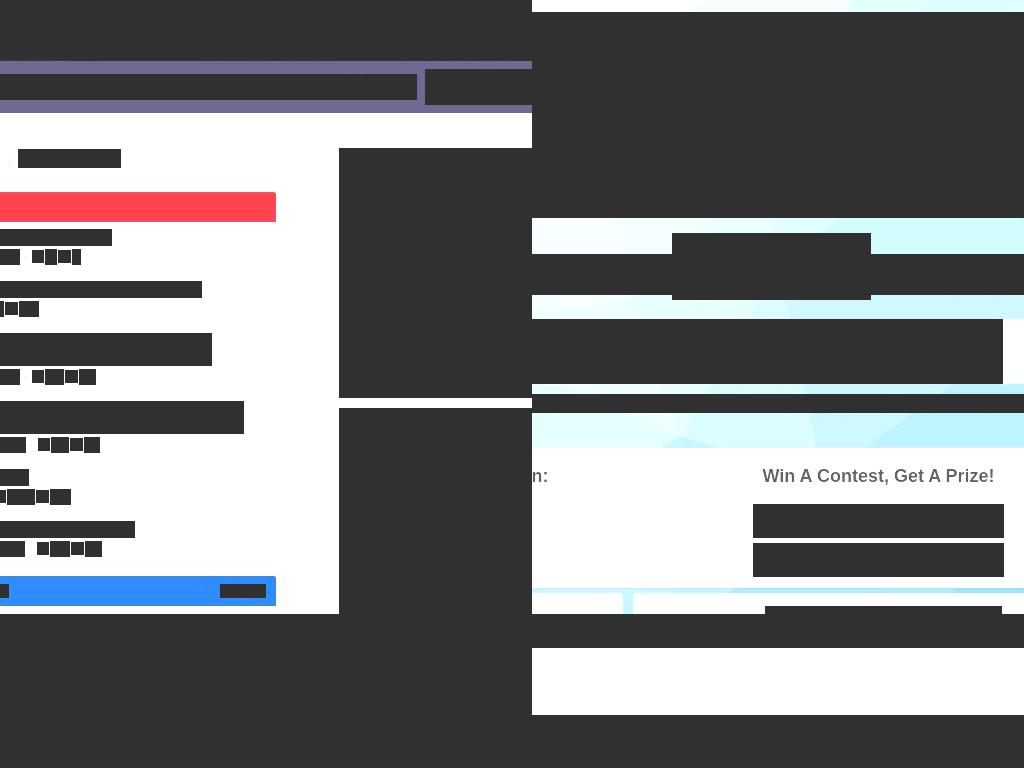button: (753, 504, 1004, 538), (753, 543, 1004, 577), (325, 74, 417, 100), (129, 74, 220, 100), (0, 74, 65, 100), (65, 74, 129, 100), (271, 74, 325, 100), (220, 74, 271, 100), (429, 72, 454, 105), (220, 584, 266, 598)
field: (532, 319, 1003, 384), (425, 69, 532, 105)
heading: (0, 703, 532, 731), (672, 233, 871, 300), (532, 394, 1024, 413), (0, 401, 244, 434), (0, 333, 212, 366), (871, 254, 1024, 295), (532, 254, 674, 295), (0, 281, 202, 298), (0, 521, 135, 538), (0, 229, 112, 246)
iframe: (339, 148, 532, 398), (339, 408, 532, 614), (0, 0, 532, 59), (532, 715, 1024, 768)
image: (0, 614, 532, 768), (58, 250, 71, 263), (5, 302, 18, 315), (65, 370, 78, 383), (70, 438, 83, 451), (36, 490, 49, 503), (71, 542, 84, 555), (32, 250, 44, 263), (32, 370, 44, 383), (38, 438, 50, 451), (37, 542, 49, 555), (0, 490, 6, 503)
link: (778, 552, 978, 568), (716, 632, 887, 648), (806, 513, 952, 529), (18, 149, 121, 168), (537, 632, 625, 648), (0, 437, 26, 453), (0, 541, 25, 557), (0, 249, 20, 265), (0, 369, 20, 385)
text: (532, 12, 1024, 125), (532, 105, 1024, 218), (532, 614, 1024, 648), (0, 731, 532, 759), (638, 464, 1024, 489), (0, 633, 138, 685), (765, 606, 1002, 614), (624, 632, 717, 648), (135, 78, 206, 94), (0, 78, 51, 94), (71, 78, 115, 94), (220, 584, 258, 598), (226, 78, 257, 94), (7, 489, 35, 505), (50, 489, 71, 505), (19, 301, 39, 317), (50, 541, 70, 557), (45, 369, 64, 385), (51, 437, 69, 453), (79, 369, 96, 385), (85, 541, 102, 557), (84, 437, 100, 453), (45, 249, 57, 265), (72, 249, 81, 265), (886, 632, 891, 648)
